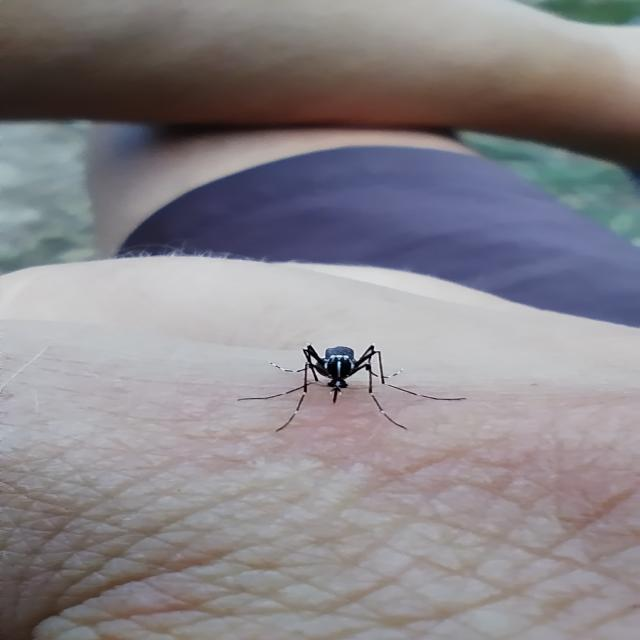albopictus: (237, 332, 463, 433)
